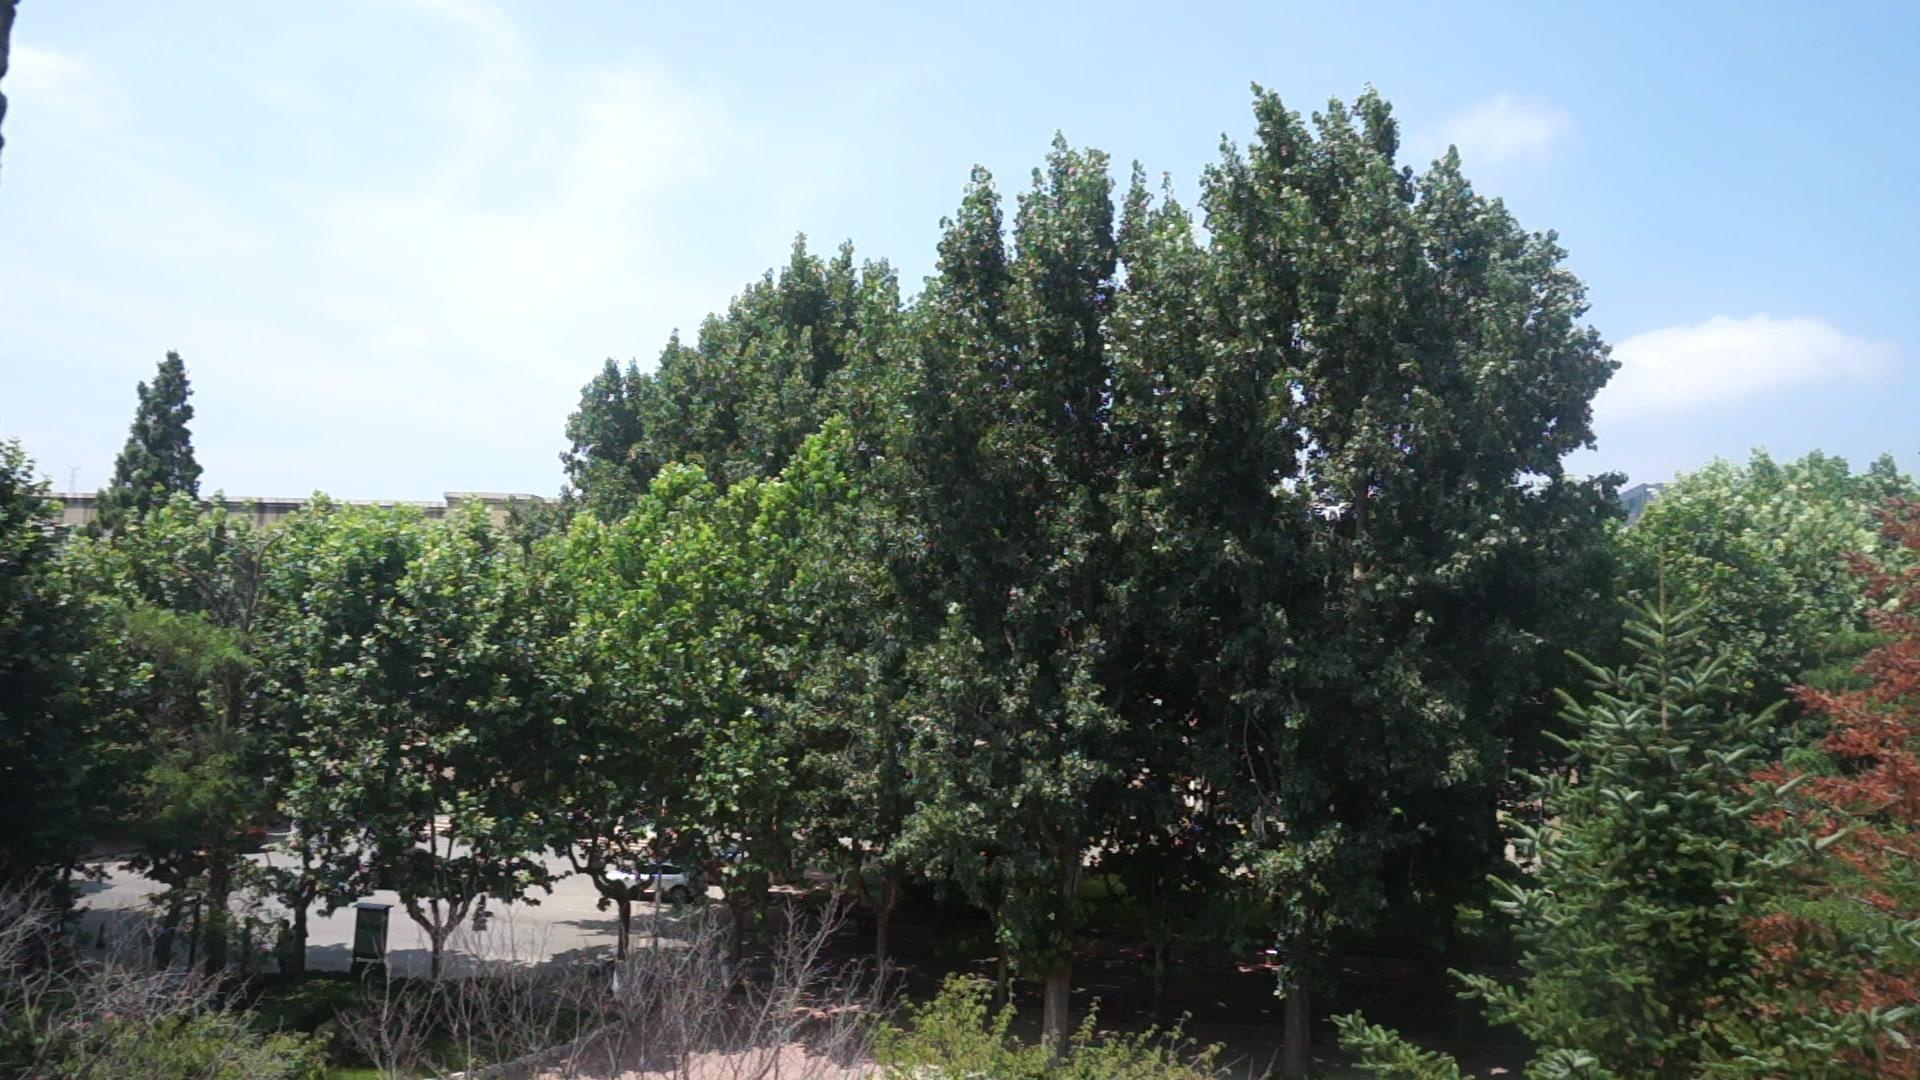UAV: (1312, 502, 1353, 521)
